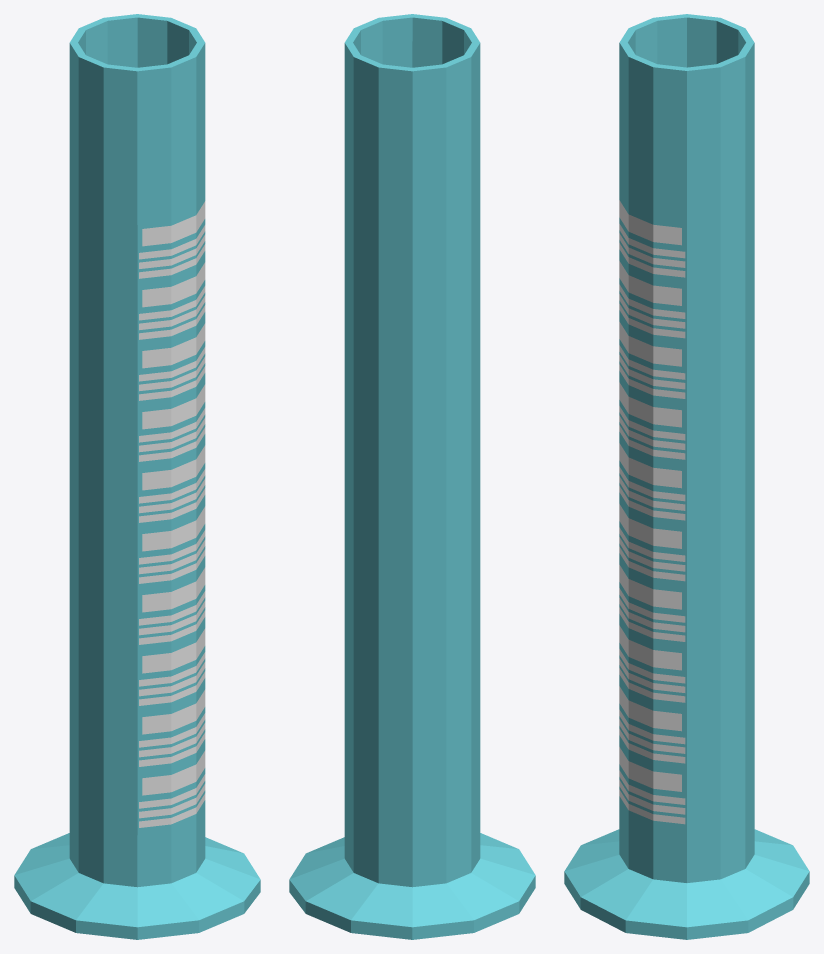
Rendered from SM_Medicine_Glass_B.glb.
3 renders of one model, left to right at view 1: azimuth 30°, elevation 25°; view 2: azimuth 150°, elevation 25°; view 3: azimuth 270°, elevation 25°, orthographic.
Visible parts, largest first — view 1: SM_Medicine_Glass_B; view 2: SM_Medicine_Glass_B; view 3: SM_Medicine_Glass_B.
Part boxes in pixels (x1,y1,x2,y2): SM_Medicine_Glass_B: (14, 14, 260, 939); SM_Medicine_Glass_B: (289, 14, 535, 939); SM_Medicine_Glass_B: (564, 14, 809, 939).
Bounding box in the file's own units: 0.0663 × 0.2523 × 0.0663.
